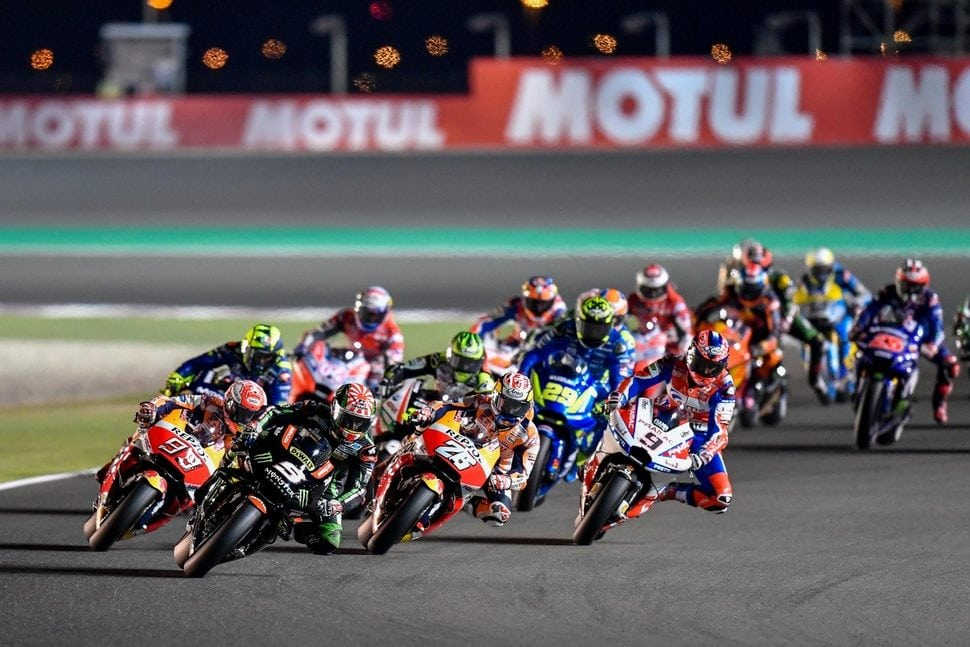helmet: (322, 372, 380, 435), (683, 324, 734, 391), (489, 373, 539, 433), (235, 316, 281, 371), (574, 293, 615, 347), (352, 280, 398, 325), (891, 250, 930, 303), (520, 268, 556, 320), (795, 239, 839, 280), (630, 258, 669, 302)
